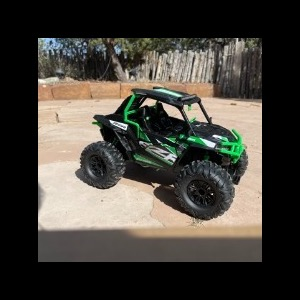polaris: (79, 86, 250, 223)
